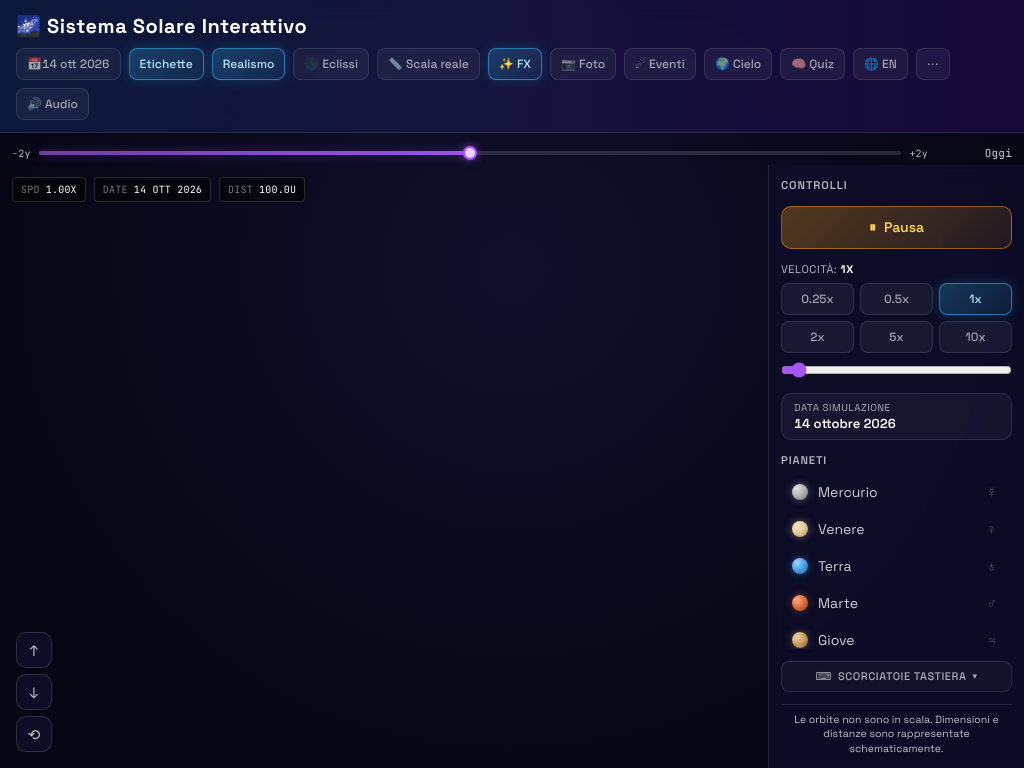
Test: App — a11y (axe-core) › pannello info aperto: nessuna violazione
Click the button "Mercurio ☿" at [894, 492], box [781,475,1008,510]
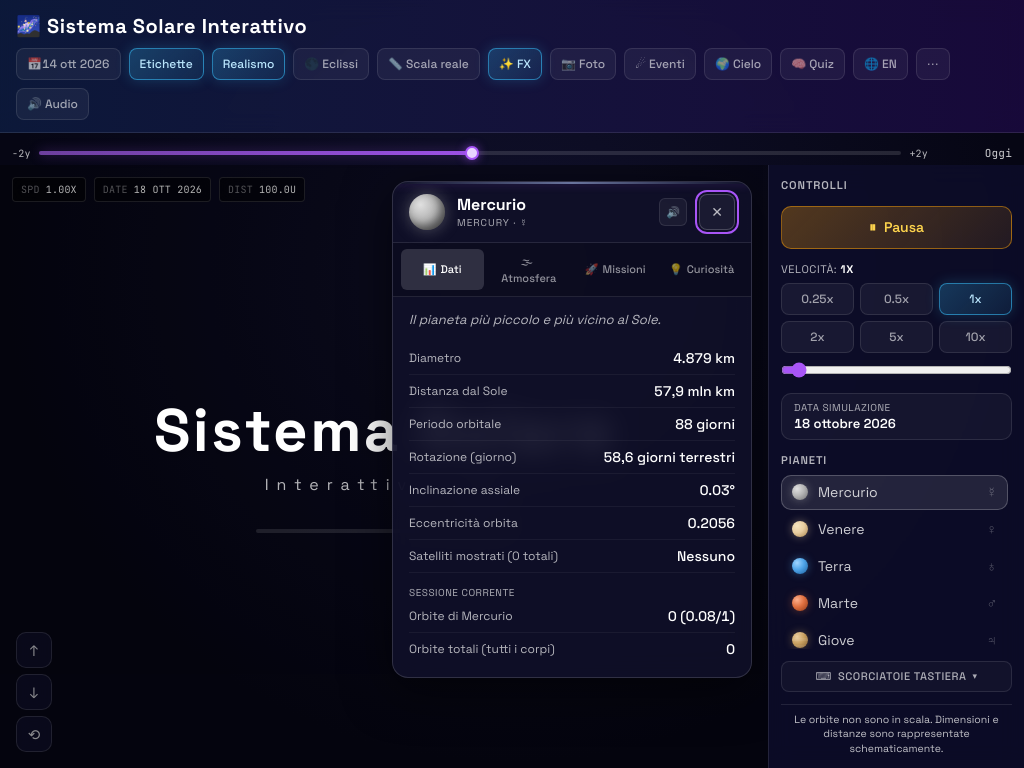
Expected: the dialog is shown, [392,181,752,678]
